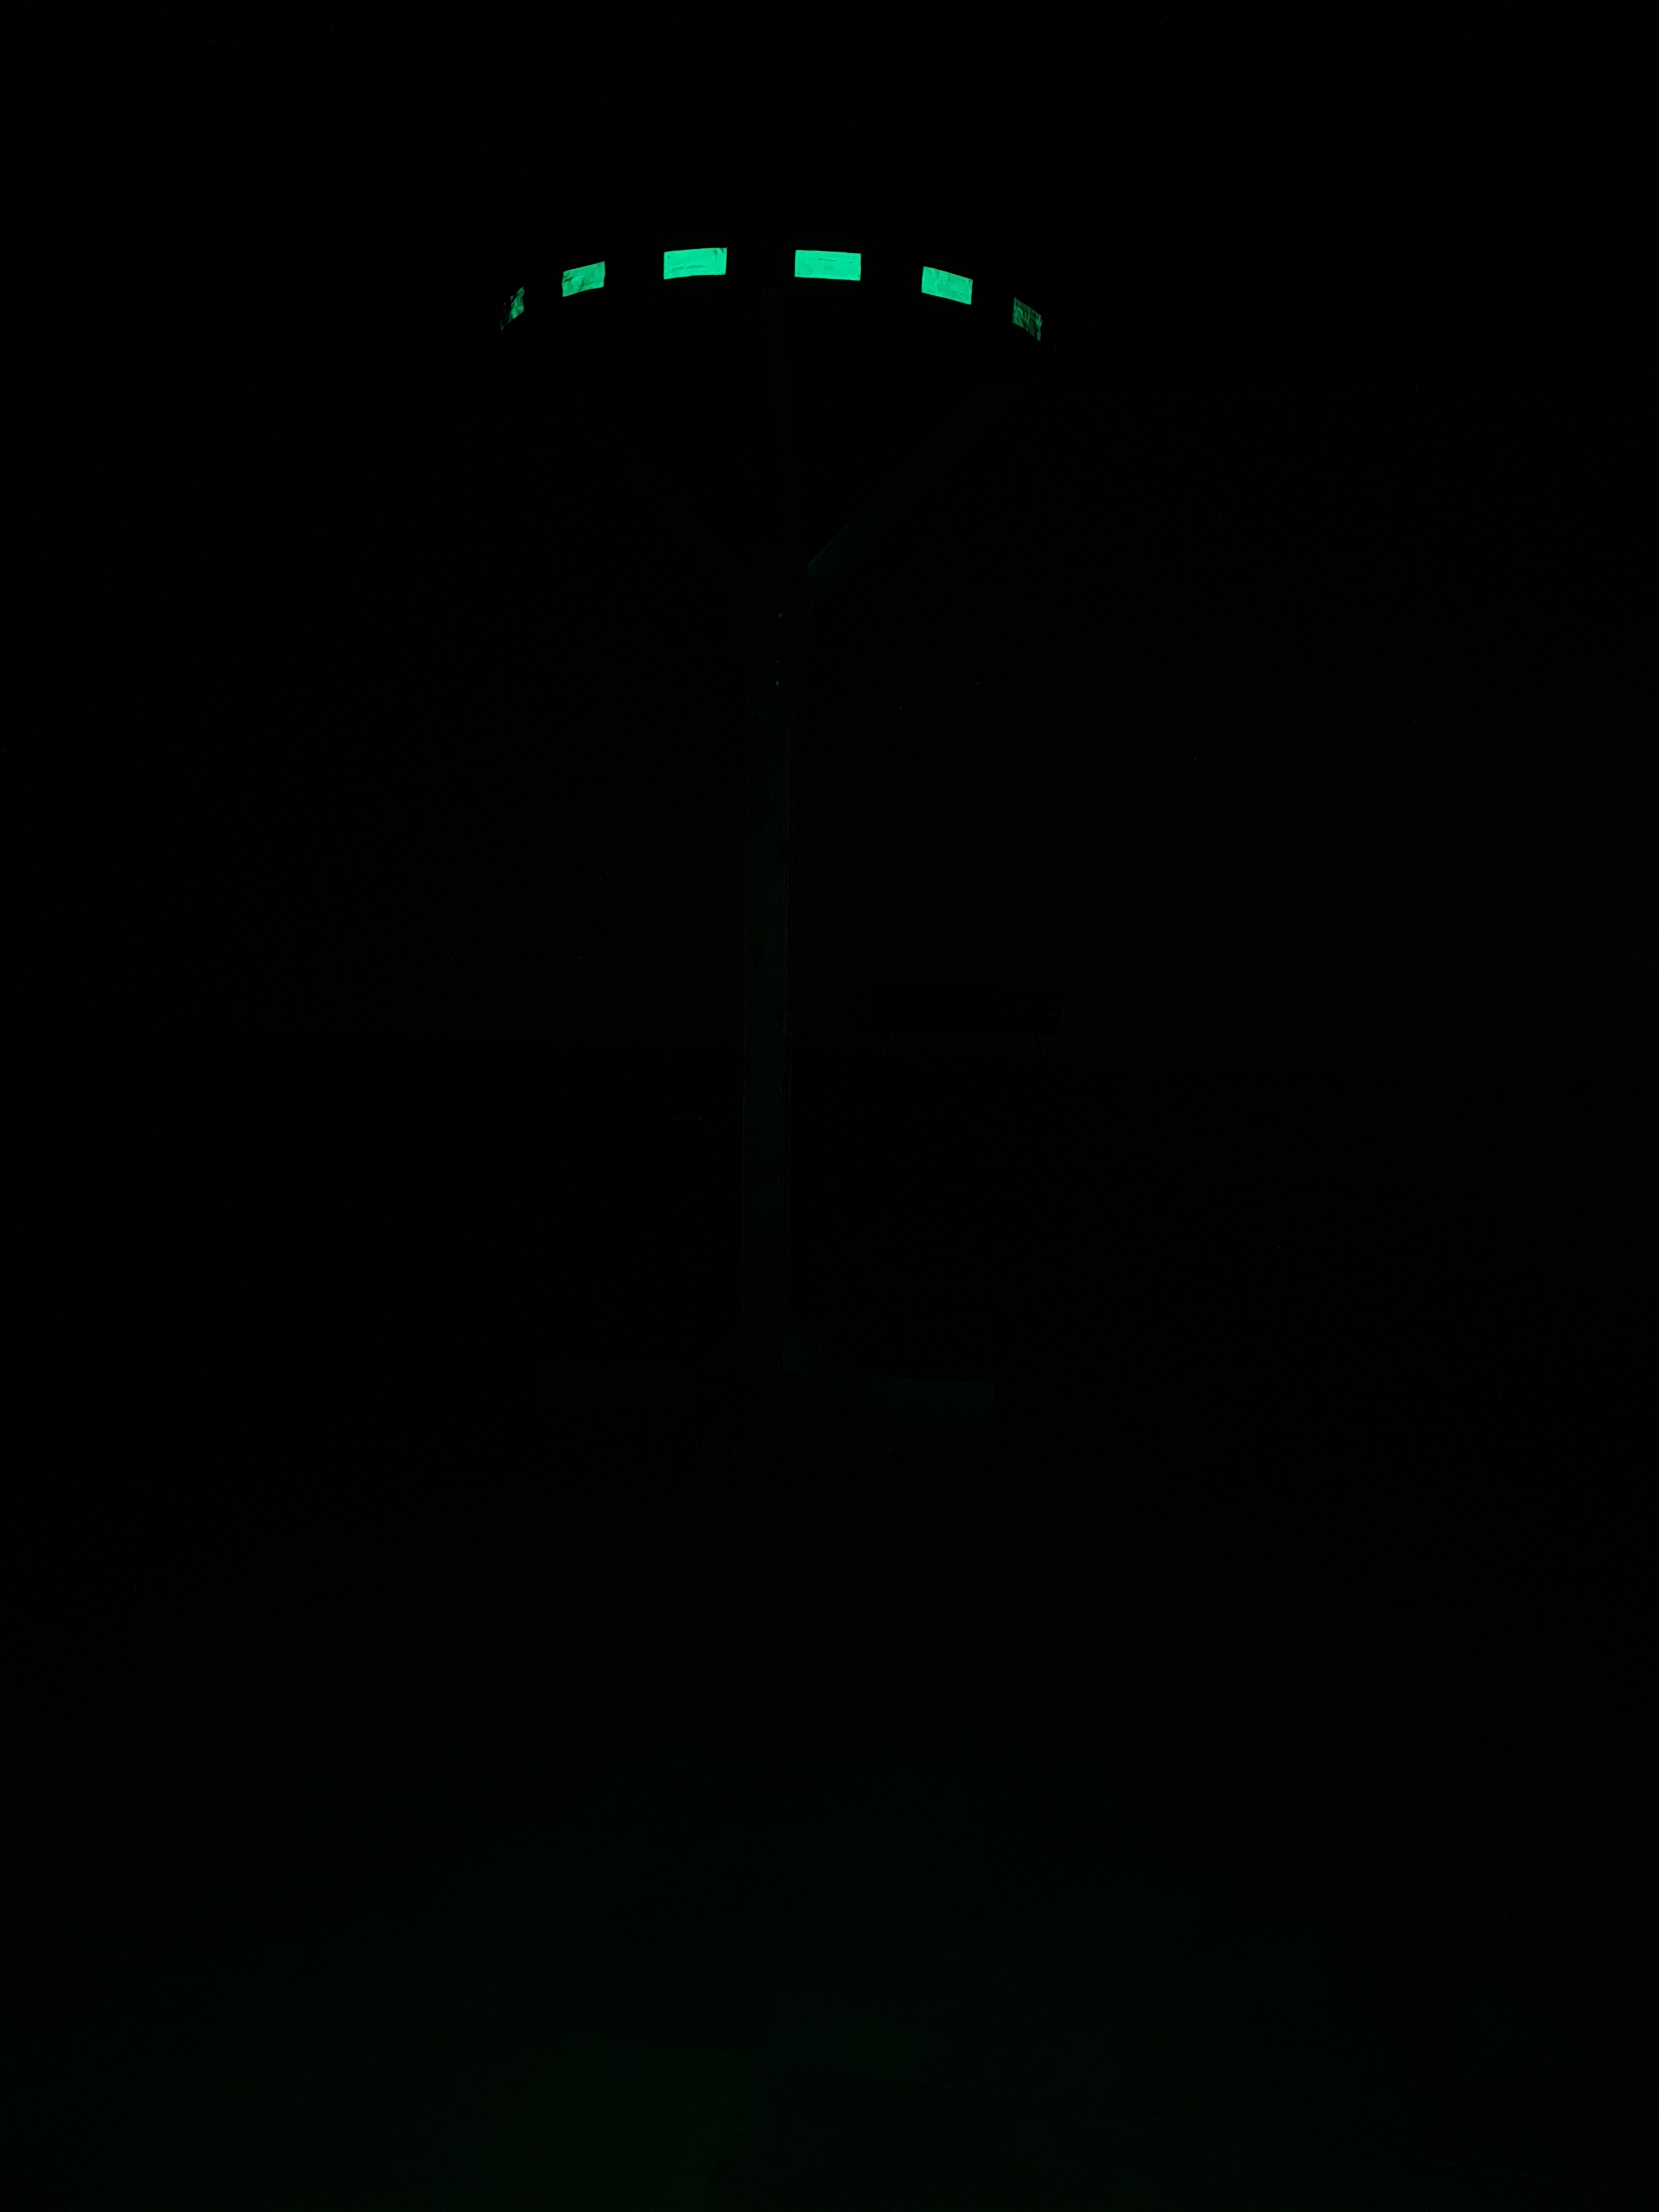hoop: (465, 225, 1093, 369)
